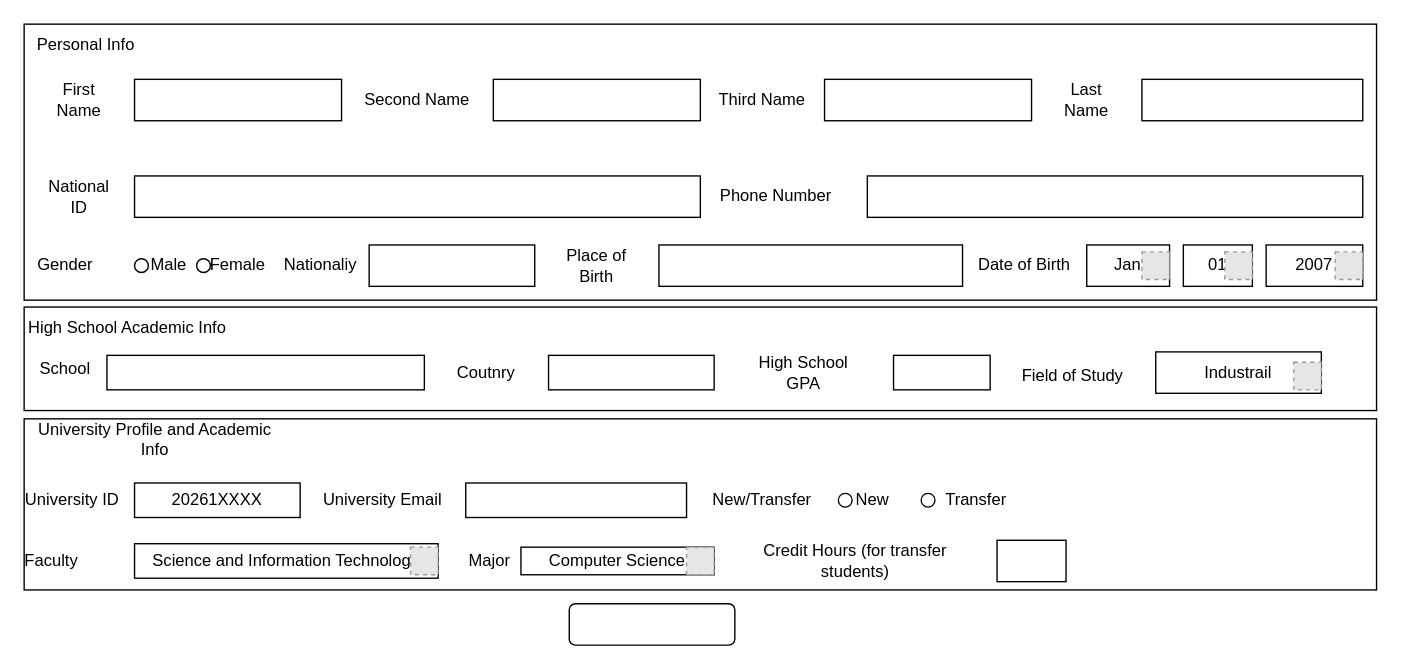
The diagram is 1401 pixels wide and 669 high, and some of its shapes have lost their labels. Grey dashed boxes stand in for pictures. Here are the shapes that lost their labels. From the top down, the centre of each, then its label:
At point 575,500: "20261XXXX@std-zuj.edu.jo".
At point 651,623: "Enroll".
